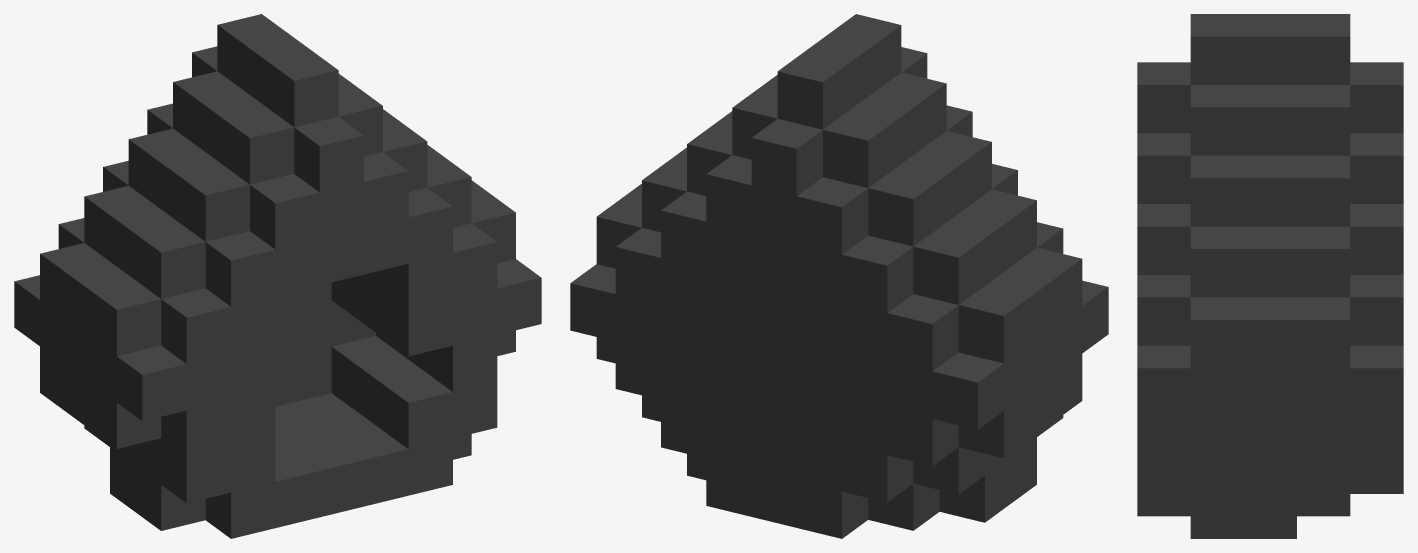
The model's file is cristais-1.obj.
3 renders of one model, left to right at view 1: azimuth 30°, elevation 25°; view 2: azimuth 150°, elevation 25°; view 3: azimuth 270°, elevation 25°, orthographic. The views are drawn at different scales.
Size of the model in its own units: 0.9 by 0.9 by 0.5.
Materials: 1 (1 with a texture image).
